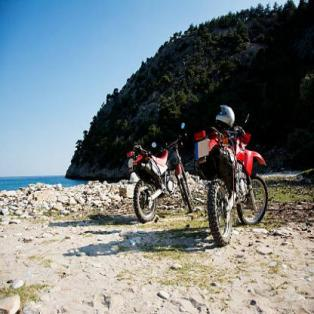Motocicleta: (193, 116, 274, 250), (123, 119, 195, 224)
